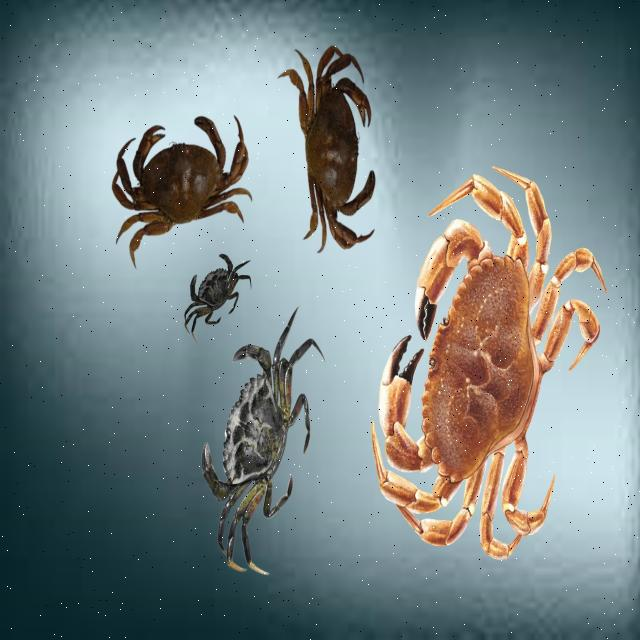European_Green_Crab: (176, 276, 347, 593), (172, 234, 262, 348)
